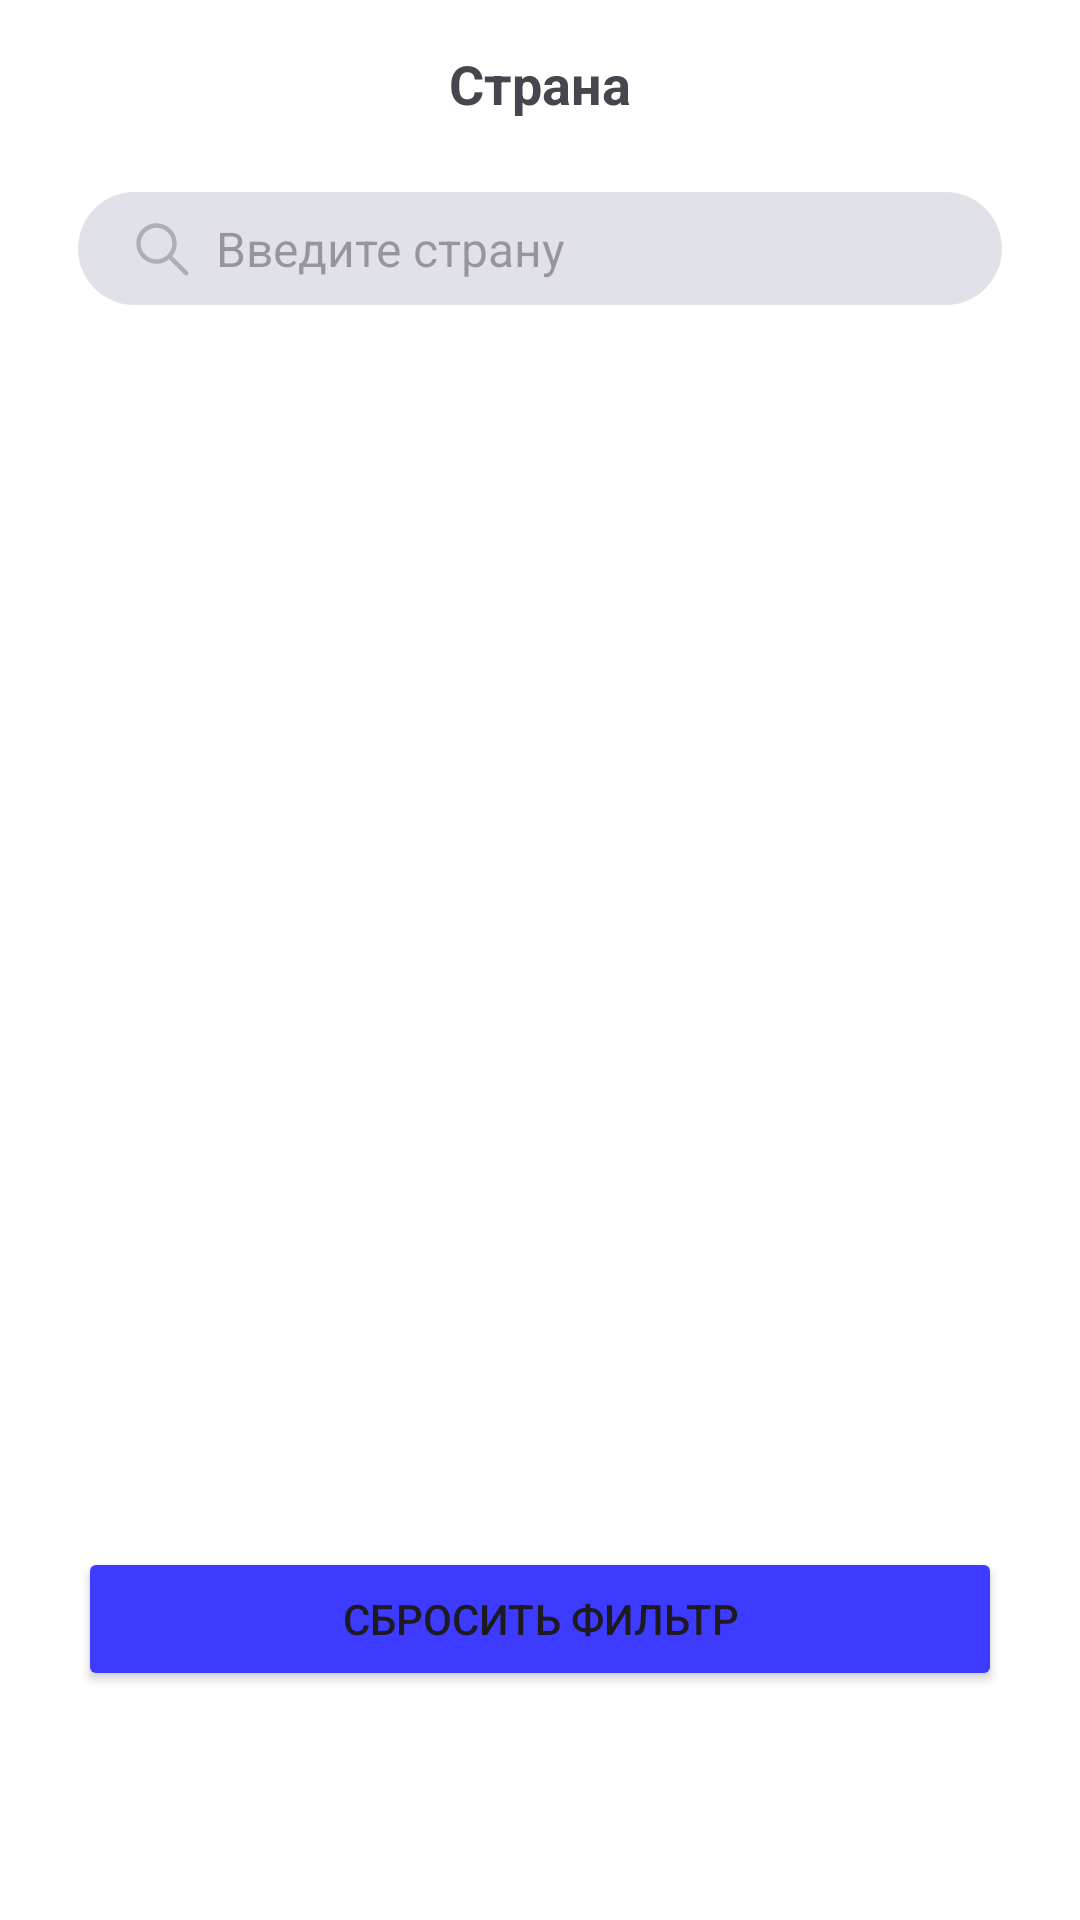

Named icons in this screenshot (1080px x 1920px) and their bounding boxes, (x1, y1, x2, y2):
search: (78, 195, 198, 303)
